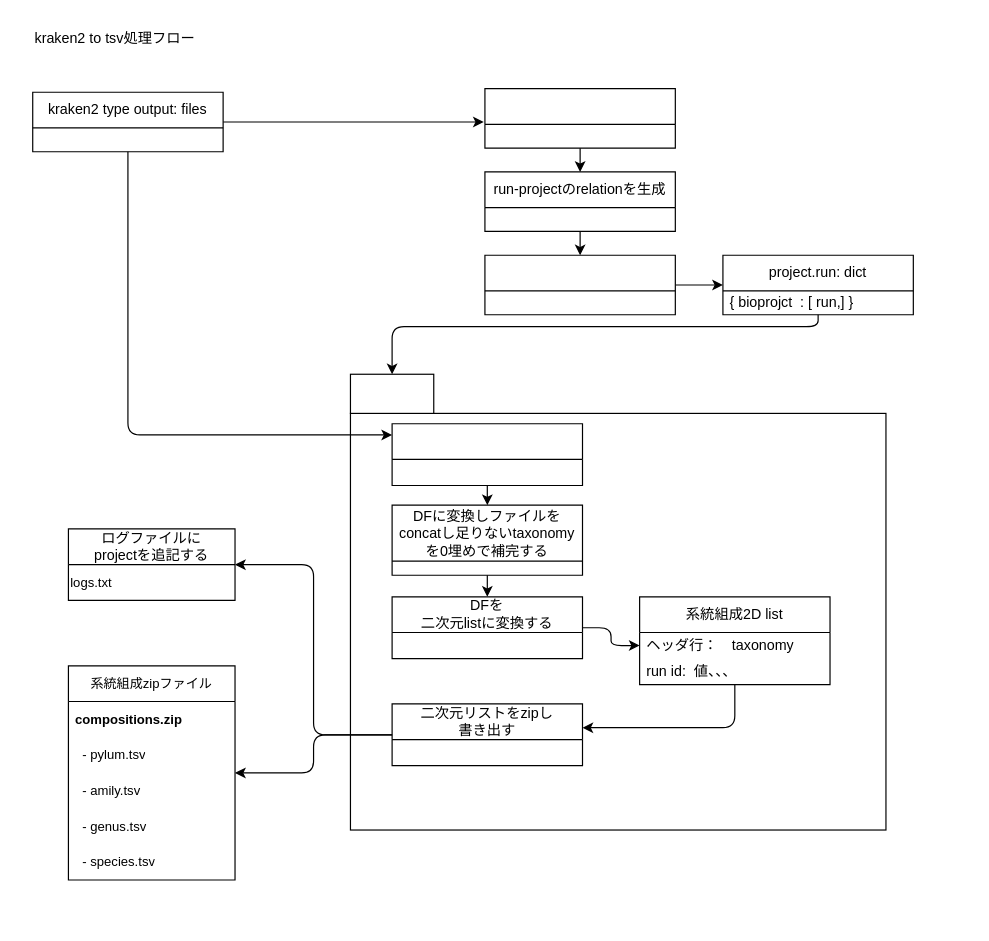
Some shapes in this 989 by 941 pixel diagram are drawn without their labels. Each missing label, with the centre of its shape:
"project" belongs at pixel 391 393.
"projectに紐づく 系統組成ファイルを選択する" belongs at pixel 487 454.
"projectをキーに: [run: filename]のdictに変換する" belongs at pixel 579 284.
"ファイル名リストからrunリストを生成する" belongs at pixel 579 117.
